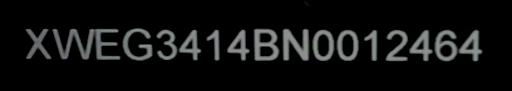letter: (49, 24, 95, 61), (120, 26, 156, 61), (21, 24, 53, 61), (280, 26, 312, 63), (91, 26, 121, 63), (251, 28, 281, 65), (456, 27, 486, 62), (176, 27, 204, 64), (225, 27, 253, 64), (406, 28, 434, 65), (310, 28, 336, 65), (383, 28, 409, 65), (154, 27, 180, 62), (334, 27, 360, 62), (433, 27, 459, 62), (204, 26, 224, 63), (361, 28, 379, 65)
